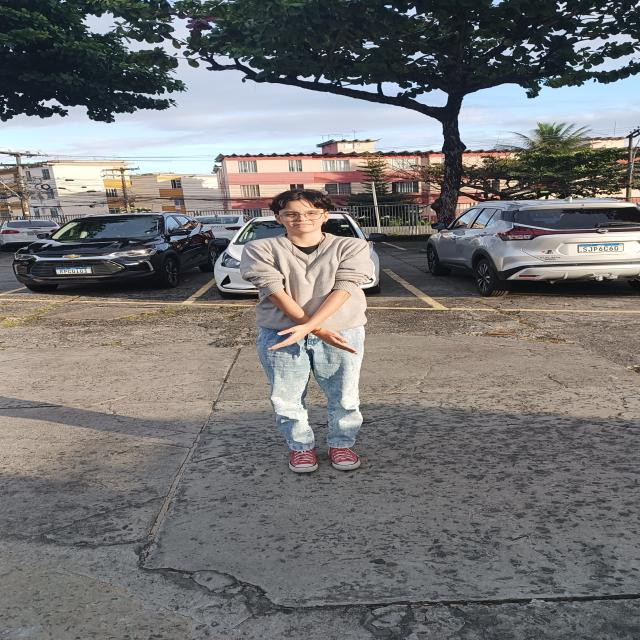land: (239, 189, 375, 472)
